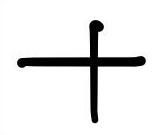plus: (17, 20, 146, 123)
